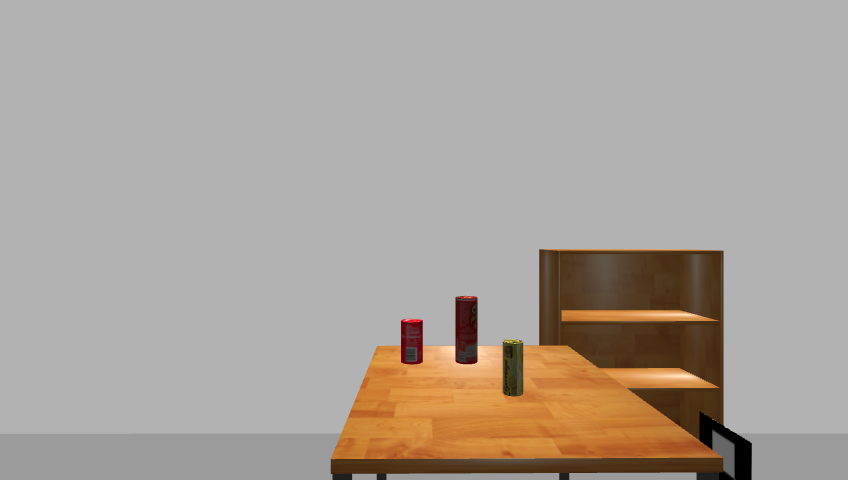aruco marker: (694, 412, 757, 480)
biscuits pack: (502, 339, 525, 398)
bookshelf: (534, 246, 732, 479)
coke can: (399, 319, 424, 365)
dinner table: (325, 344, 726, 480)
pringles can: (453, 295, 480, 366)
